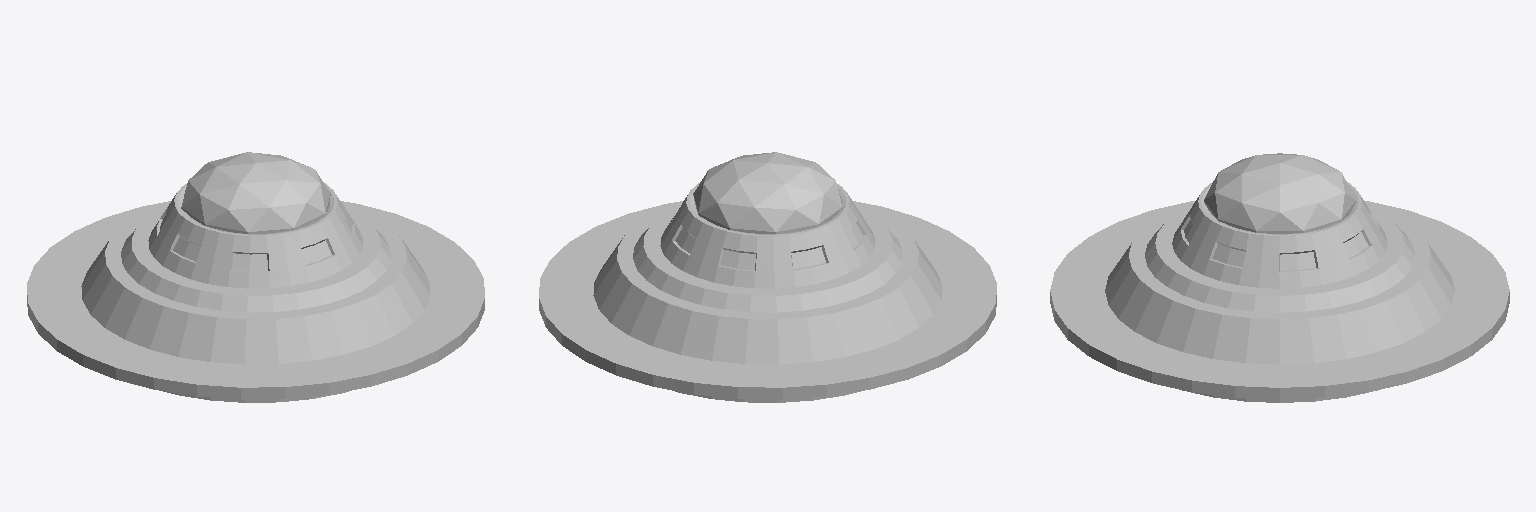
Rendered from UFO.obj.
3 views of the same model, side by side, from view 1: azimuth 30°, elevation 25°; view 2: azimuth 150°, elevation 25°; view 3: azimuth 270°, elevation 25° (orthographic).
Visible parts, largest first — view 1: Cylinder; view 2: Cylinder; view 3: Cylinder.
Part boxes in pixels (bbox=[...]): Cylinder: bbox=[27, 152, 484, 402]; Cylinder: bbox=[539, 152, 996, 402]; Cylinder: bbox=[1050, 153, 1509, 402].
Size of the model in its own units: 3.56 by 1.59 by 3.56.